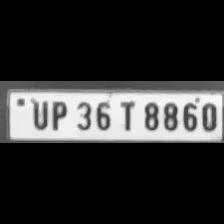0: (198, 100, 218, 132)
3: (72, 98, 92, 130)
6: (92, 99, 114, 131), (178, 99, 198, 131)
8: (140, 99, 160, 131), (161, 99, 179, 131)
P: (47, 99, 69, 130)
T: (115, 98, 137, 132)
U: (28, 98, 48, 130)
